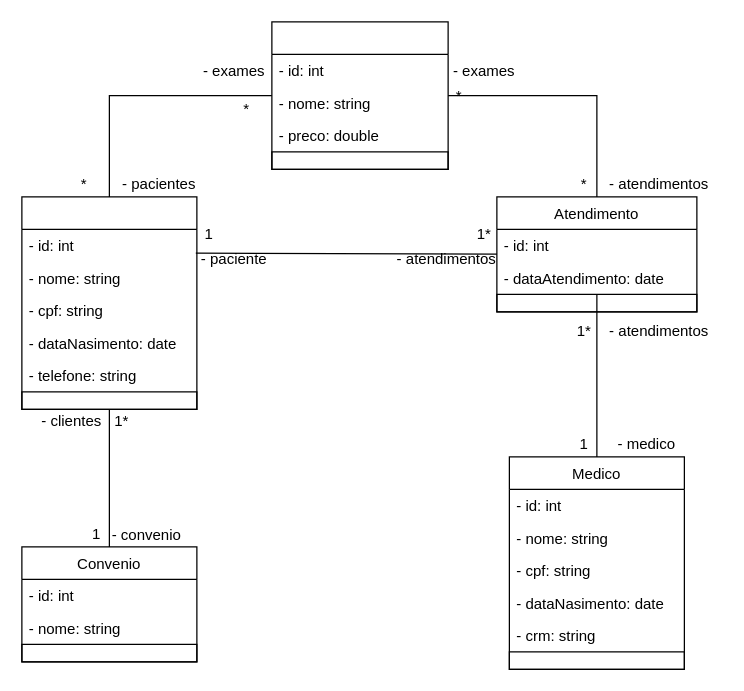
Image size: 744x691. Some labels were removed from this diagram. The box of each missing label's shape, as (x1, y1, x2, y2) in pixels:
Exame: (271, 21, 448, 169)
Paciente: (21, 196, 197, 409)
